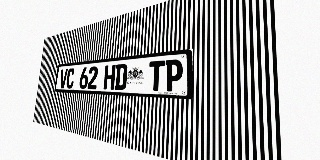2: (87, 66, 98, 89)
6: (79, 67, 89, 89)
C: (66, 68, 75, 89)
D: (114, 64, 128, 90)
H: (103, 65, 116, 90)
P: (164, 59, 183, 92)
T: (148, 60, 165, 91)
V: (59, 69, 68, 88)
